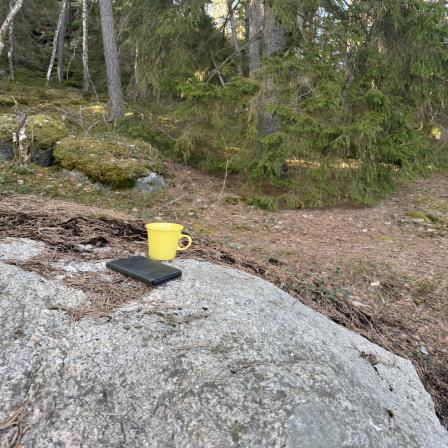phone: (107, 254, 186, 290)
yellow_cup: (144, 222, 195, 262)
